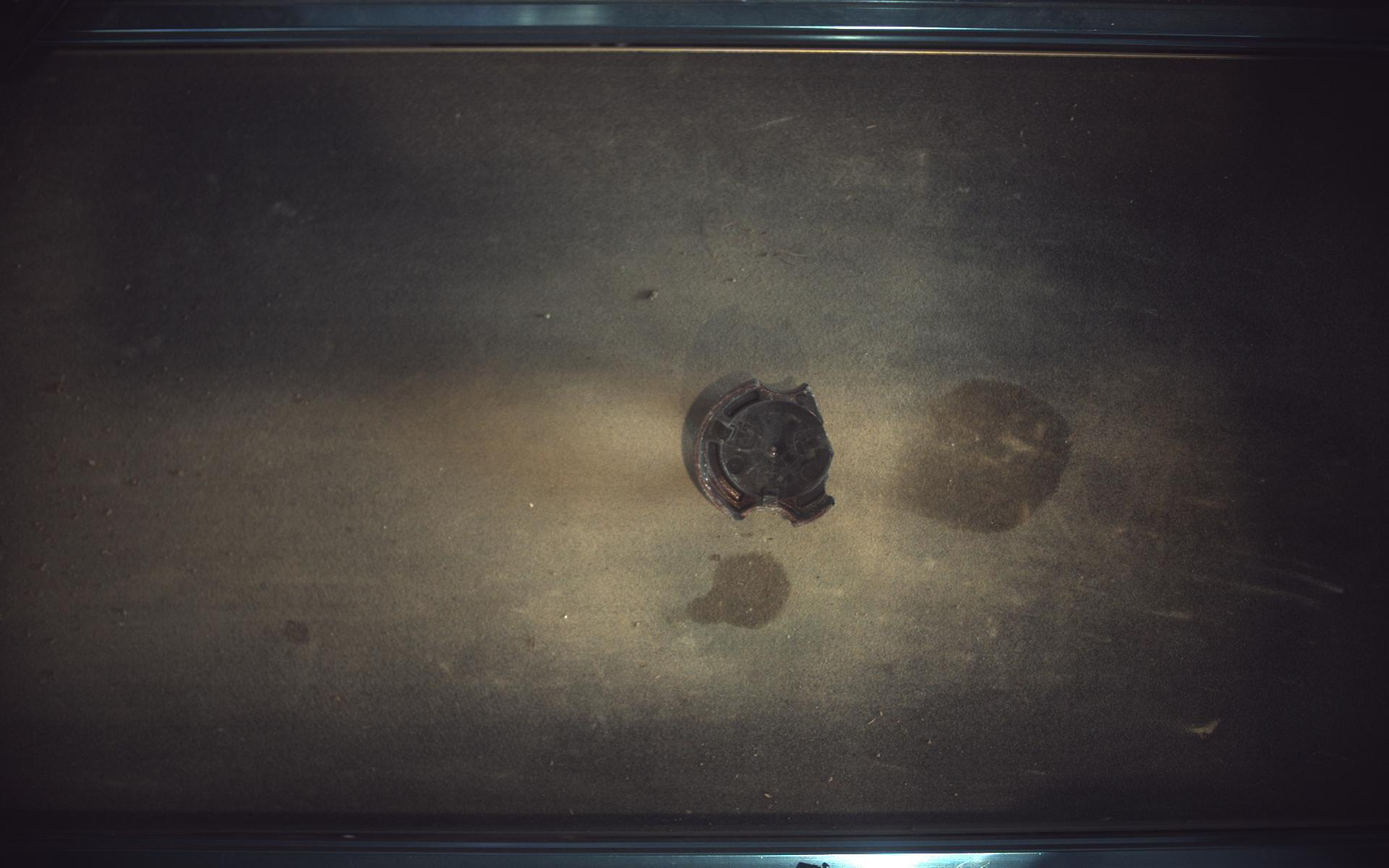general_w: (696, 380, 836, 525)
